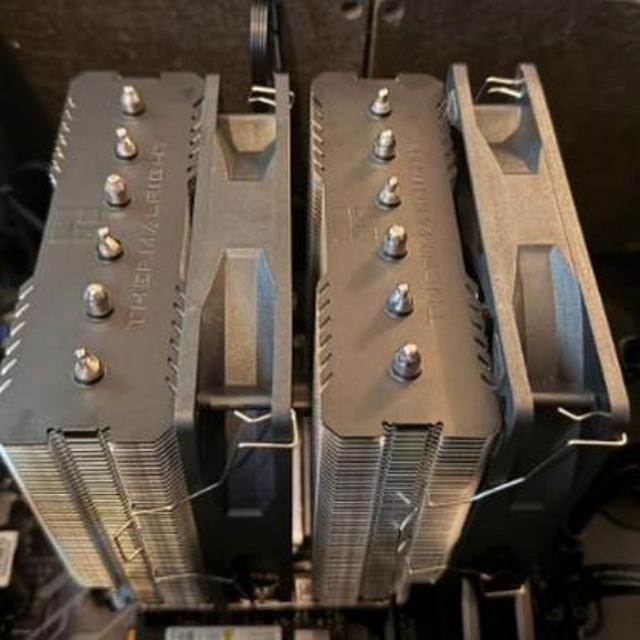CPU_Fan: (0, 60, 638, 606)
